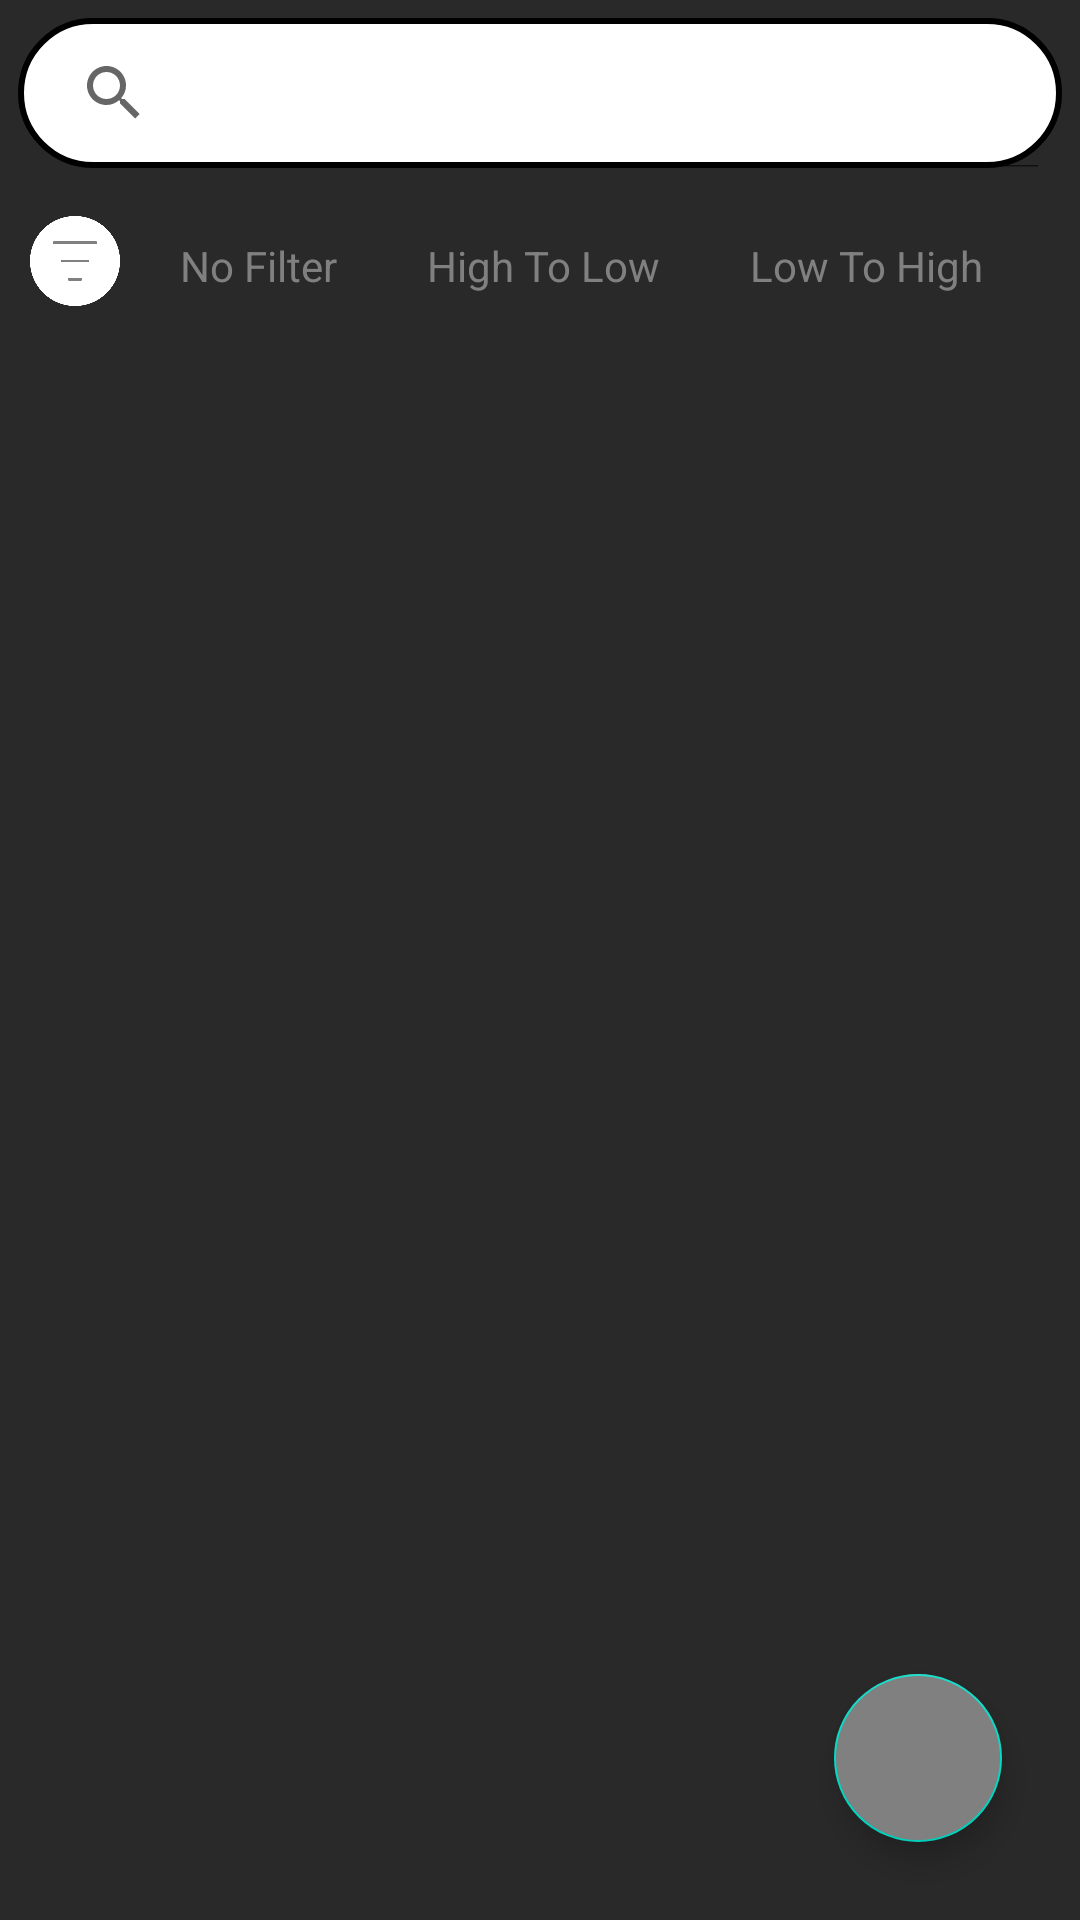

Icon click points for this 1080*1920 phone screenshot, format (x=x, y=y):
sorting: (x=75, y=261)
